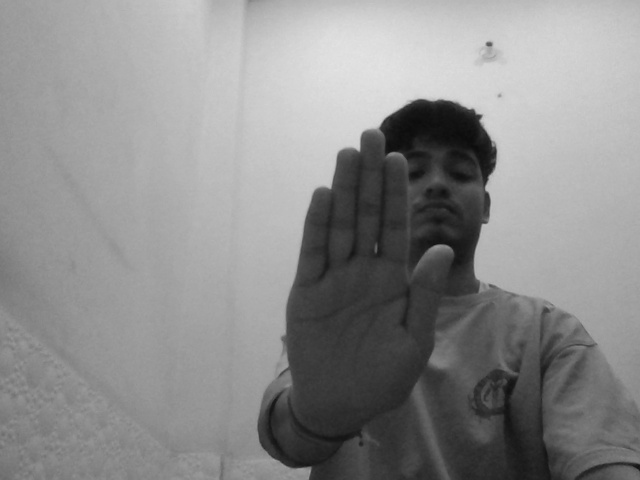Sorry: (277, 124, 465, 432)
